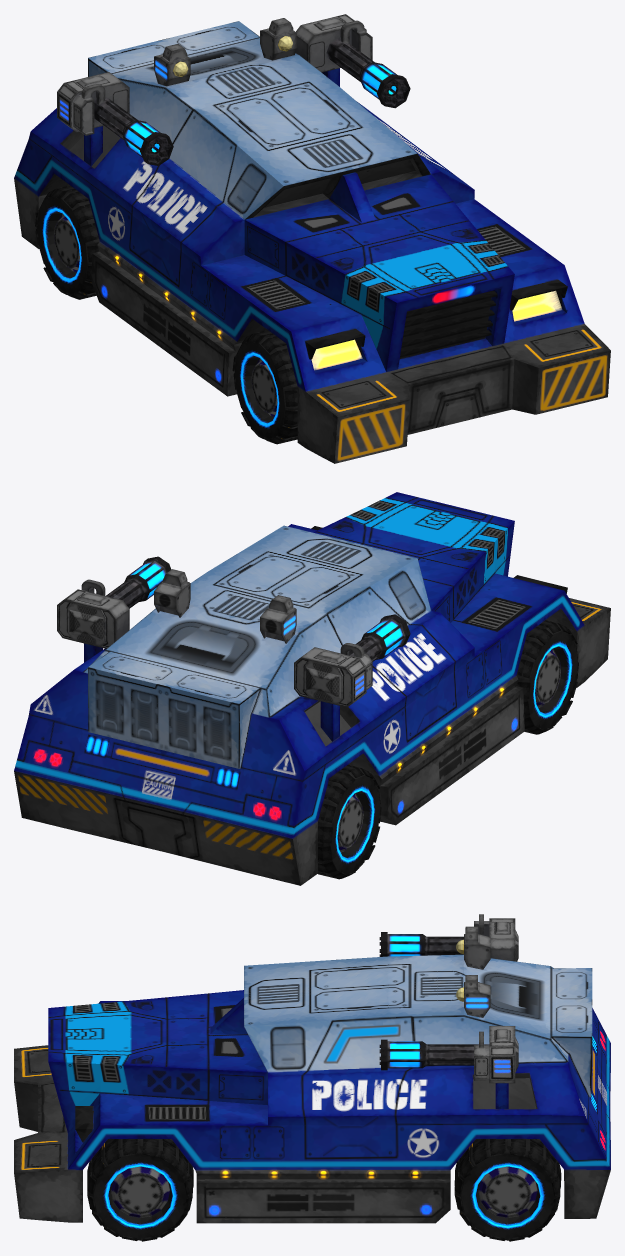
Rendered from RI_Humvee_Vehicle.fbx.
The picture shows the model from 3 angles, top to bottom: view 1: azimuth 30°, elevation 25°; view 2: azimuth 150°, elevation 25°; view 3: azimuth 270°, elevation 25°; orthographic projection. The views are drawn at different scales.
Visible parts, largest first — view 1: RI_Humvee_Vehicle, RI_Humvee_Vehicle_Tyer_Front, RI_Humvee_Vehicle_Tyer_Back; view 2: RI_Humvee_Vehicle, RI_Humvee_Vehicle_Tyer_Back, RI_Humvee_Vehicle_Tyer_Front; view 3: RI_Humvee_Vehicle, RI_Humvee_Vehicle_Tyer_Back, RI_Humvee_Vehicle_Tyer_Front.
Boxes of the visible parts, x1,y1,x2,y2 form: RI_Humvee_Vehicle: (14,14,610,463); RI_Humvee_Vehicle_Tyer_Front: (232,330,297,444); RI_Humvee_Vehicle_Tyer_Back: (35,185,99,299); RI_Humvee_Vehicle: (14,492,610,885); RI_Humvee_Vehicle_Tyer_Back: (318,765,381,879); RI_Humvee_Vehicle_Tyer_Front: (516,620,578,734); RI_Humvee_Vehicle: (14,914,610,1223); RI_Humvee_Vehicle_Tyer_Back: (454,1139,561,1241); RI_Humvee_Vehicle_Tyer_Front: (87,1139,193,1241).
Size of the model in its own units: 3.57 by 2.76 by 6.67.
